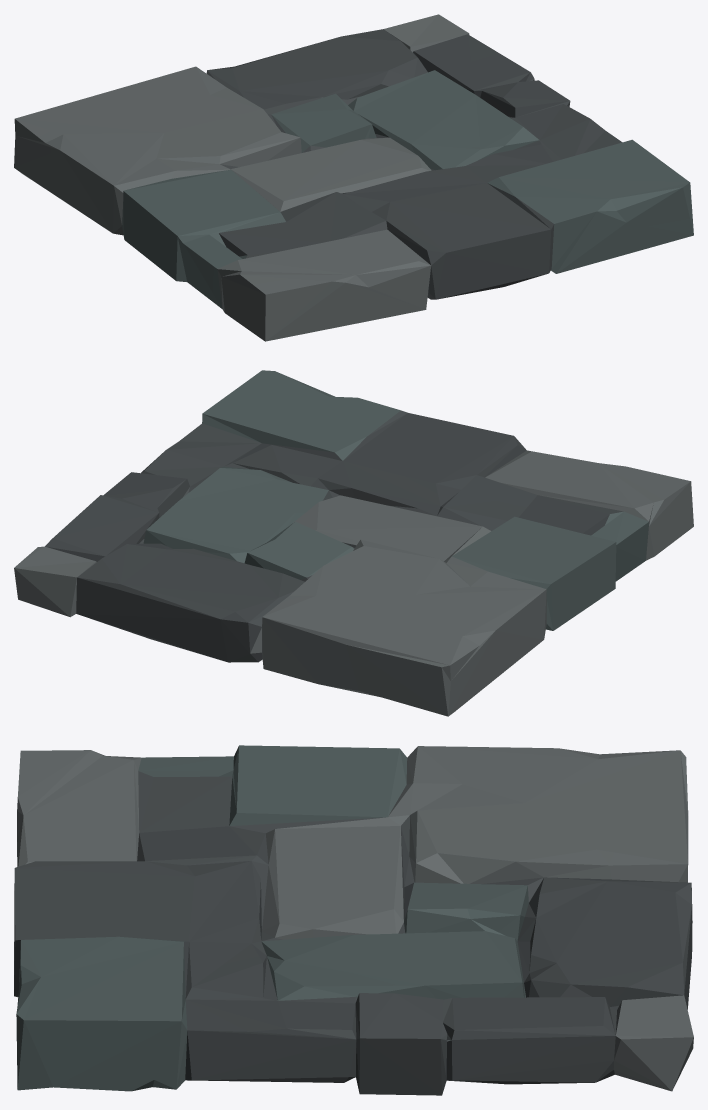
Rendered from MDungenon_StoneFloor.FBX.
3 renders of one model, top to bottom at view 1: azimuth 30°, elevation 25°; view 2: azimuth 150°, elevation 25°; view 3: azimuth 270°, elevation 25°, orthographic. The views are drawn at different scales.
Parts seen in each view (by area): view 1: MDungenon_StoneFloor_LOD0; view 2: MDungenon_StoneFloor_LOD0; view 3: MDungenon_StoneFloor_LOD0.
Part boxes in pixels (bbox=[...]): MDungenon_StoneFloor_LOD0: bbox=[14, 14, 693, 341]; MDungenon_StoneFloor_LOD0: bbox=[14, 370, 693, 716]; MDungenon_StoneFloor_LOD0: bbox=[14, 745, 693, 1095].
Size of what is drawn, in the model's own units: 6.03 by 0.8052 by 6.03.
